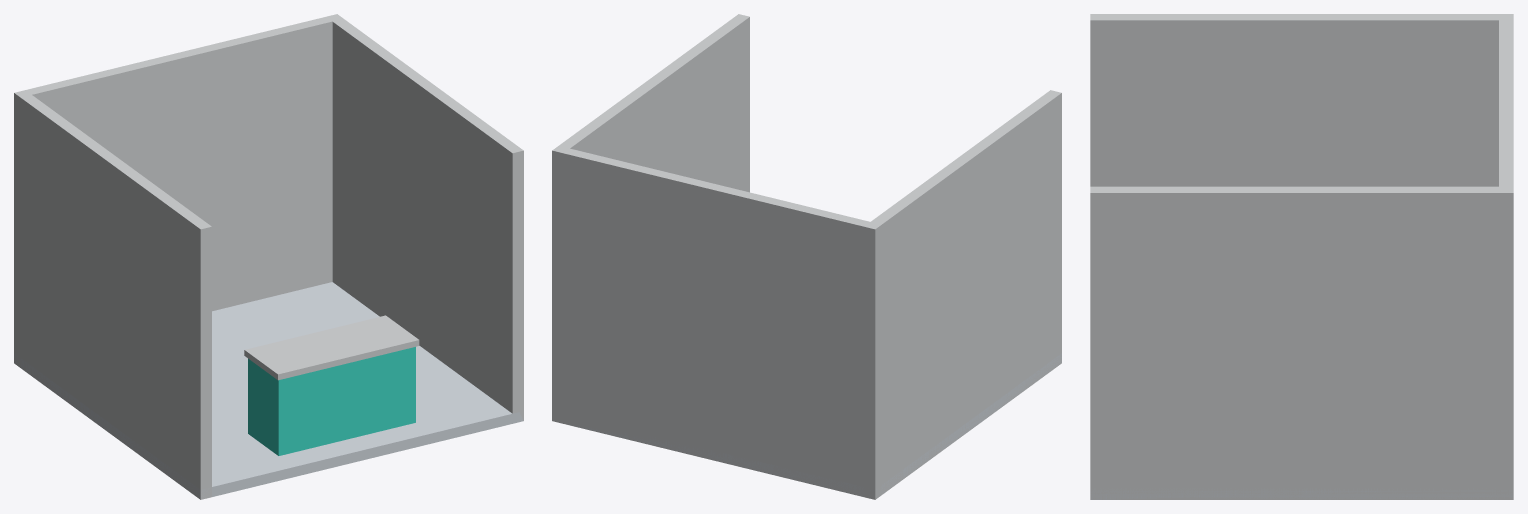
The picture shows the model from 3 angles, left to right: view 1: azimuth 30°, elevation 25°; view 2: azimuth 150°, elevation 25°; view 3: azimuth 270°, elevation 25°; orthographic projection. The views are drawn at different scales.
Visible parts, largest first — view 1: Exhibition Booth Concept; view 2: Exhibition Booth Concept; view 3: Exhibition Booth Concept.
Part boxes in pixels (x1=…): Exhibition Booth Concept: x1=14, y1=14, x2=523, y2=499; Exhibition Booth Concept: x1=552, y1=14, x2=1061, y2=499; Exhibition Booth Concept: x1=1090, y1=14, x2=1513, y2=499.
Size of the model in its own units: 4 by 3.2 by 4.
